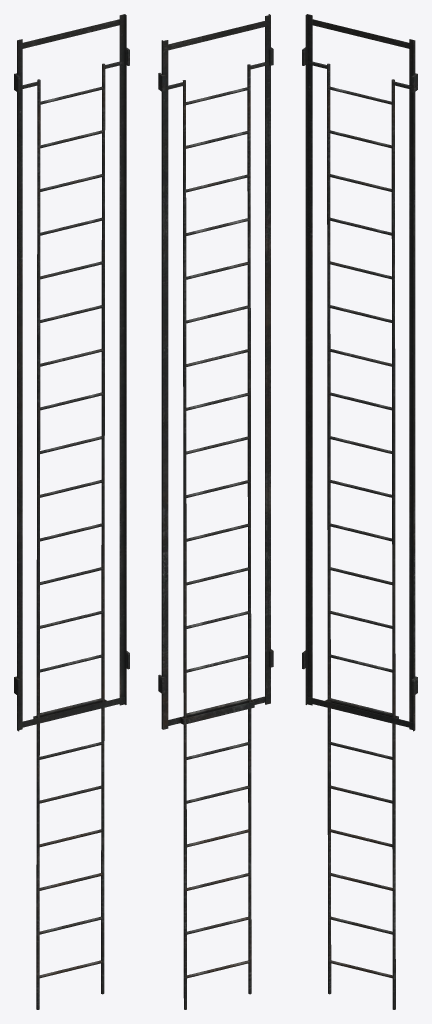
The model's file is fire_escape_ladder_bottom.glb.
The picture shows the model from 3 angles, left to right: view 1: azimuth 30°, elevation 25°; view 2: azimuth 210°, elevation 25°; view 3: azimuth 330°, elevation 25°; orthographic projection.
Visible parts, largest first — view 1: fire_escape_ladder_bottom; view 2: fire_escape_ladder_bottom; view 3: fire_escape_ladder_bottom.
Part boxes in pixels (box(x1,y1,x2,y2)): fire_escape_ladder_bottom: box(14, 14, 129, 1009); fire_escape_ladder_bottom: box(158, 14, 273, 1009); fire_escape_ladder_bottom: box(302, 14, 417, 1009).
Bounding box in the file's own units: 0.775 × 6.47 × 0.0644.
1 material, 1 textured.
